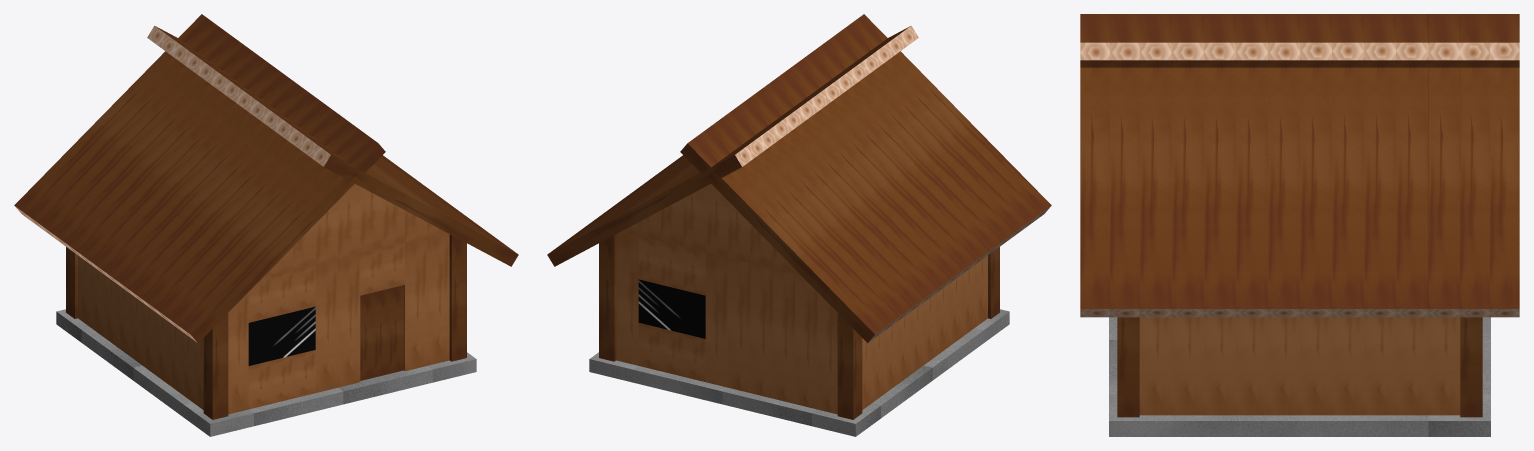
Rendered from House_1.glb.
3 renders of one model, left to right at view 1: azimuth 30°, elevation 25°; view 2: azimuth 150°, elevation 25°; view 3: azimuth 270°, elevation 25°, orthographic. The views are drawn at different scales.
Visible parts, largest first — view 1: Cube.001, Cube, Cube.002, Cube.003; view 2: Cube.001, Cube, Cube.004; view 3: Cube.001, Cube.
Part boxes in pixels (bbox=[...]): Cube.001: bbox=[14, 14, 518, 342]; Cube: bbox=[56, 184, 476, 436]; Cube.002: bbox=[360, 285, 403, 380]; Cube.003: bbox=[248, 306, 315, 365]; Cube.001: bbox=[547, 14, 1051, 342]; Cube: bbox=[589, 184, 1009, 436]; Cube.004: bbox=[638, 279, 705, 338]; Cube.001: bbox=[1080, 14, 1519, 317]; Cube: bbox=[1109, 317, 1490, 436].
Size of the model in its own units: 7.93 by 6.1 by 7.4.
Materials: 1 (1 with a texture image).
